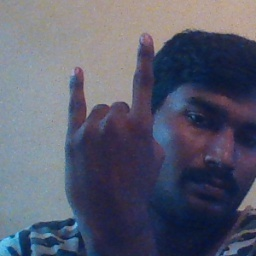V: (60, 30, 167, 222)
